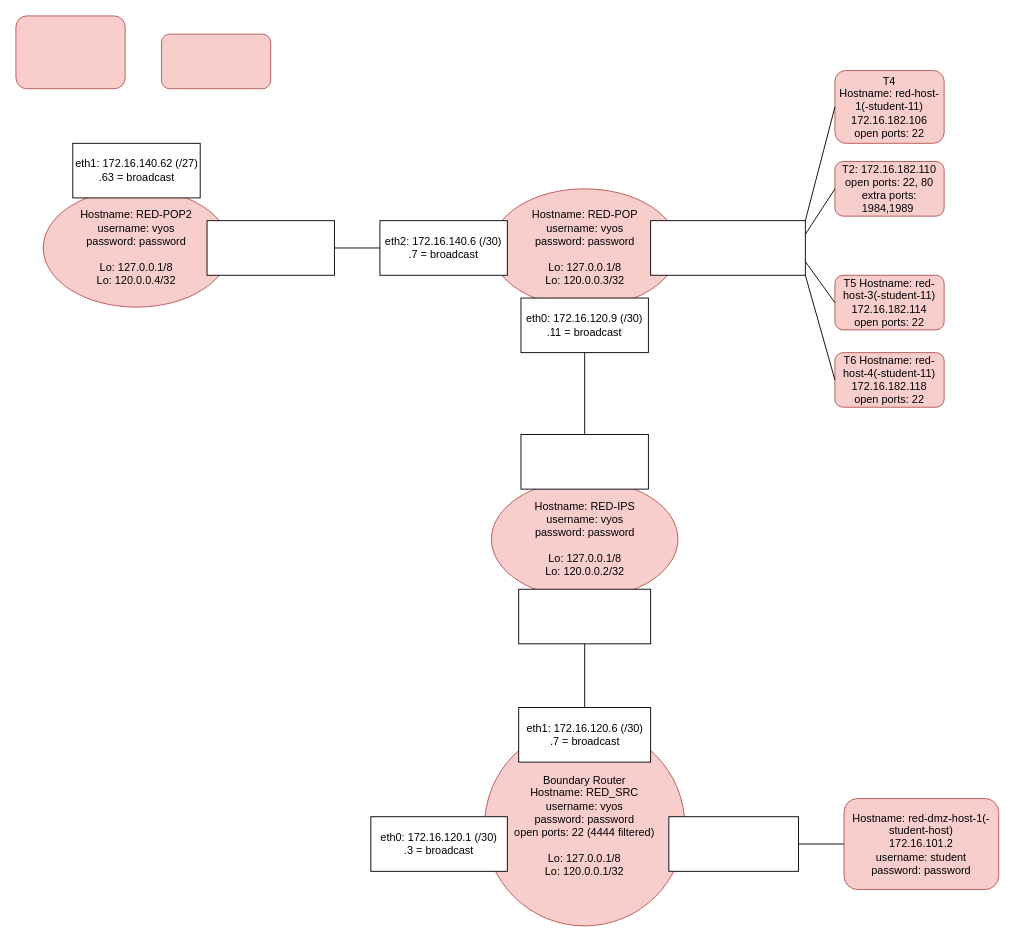
Image size: 1015x942. Some labels were removed from this diagram. The shapes that lost their labels are listed below. From the top down, each one's centre as x and y in pixels, then its label:
the point at 70,52: T3 Hostname: 172.16.140.33 open ports: 22 extra ports: 2305, 2800, 2828
the point at 216,61: T7 Hostname: 172.16.140.35 open ports:
the point at 270,247: eth0: 172.16.140.5 (/30) .7 = broadcast
the point at 727,247: eth1: 172.16.182.126 (/27) .127 = broadcast
the point at 584,461: eth1: 172.16.120.10 (/30) .11 = broadcast
the point at 584,616: eth0: 172.16.120.5 (/30) .7 = broadcast
the point at 733,843: eth2: 172.16.101.30 (/27), .31 = broadcast
